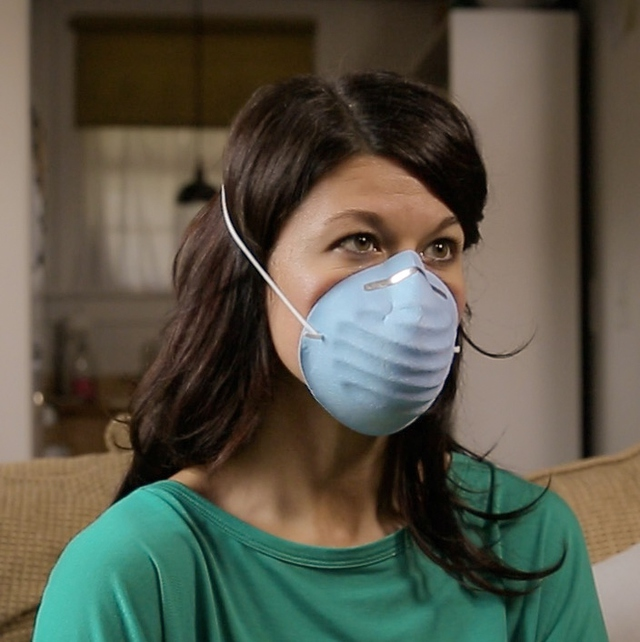mask: (319, 271, 461, 434)
